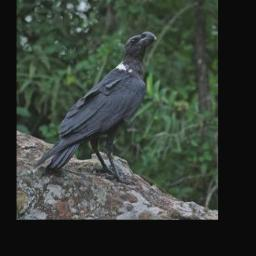Crow: (35, 29, 159, 185)
